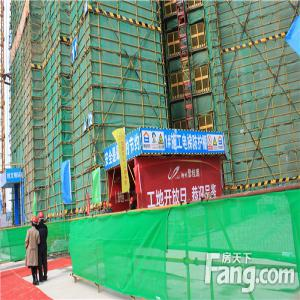red: (32, 216, 39, 229), (39, 213, 45, 224), (103, 202, 108, 211), (109, 203, 113, 211), (131, 198, 135, 206)
